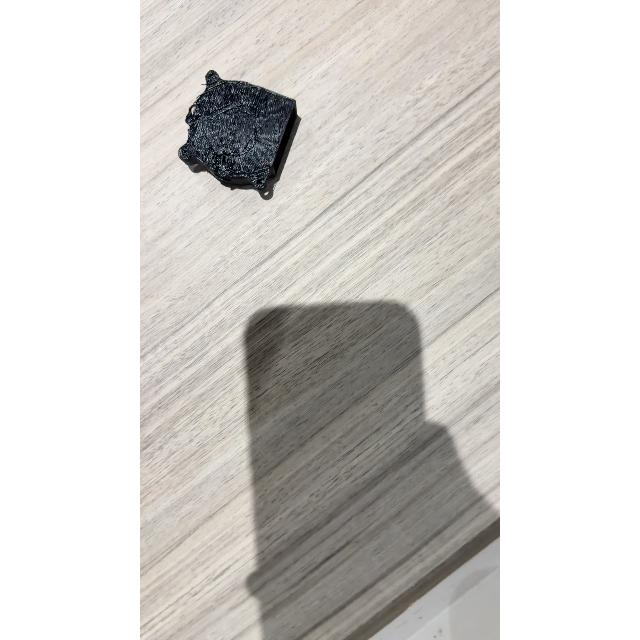Pieza_3: (174, 62, 308, 206)
